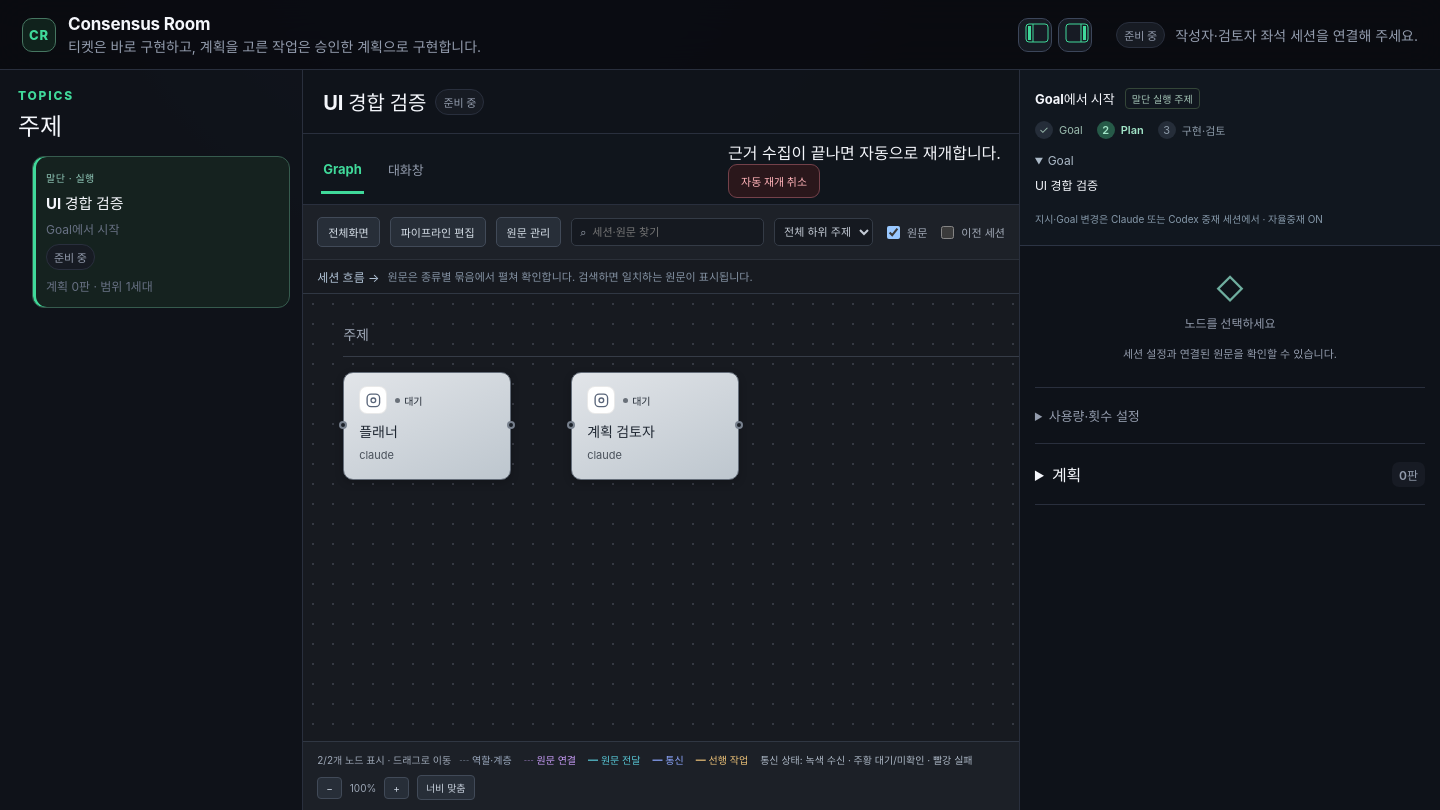
Test: shows and cancels evidence resume in DRAFT
This screenshot has width=1440, height=810.
Click the button "자동 재개 취소" at (774, 181), box [728,164,820,198]
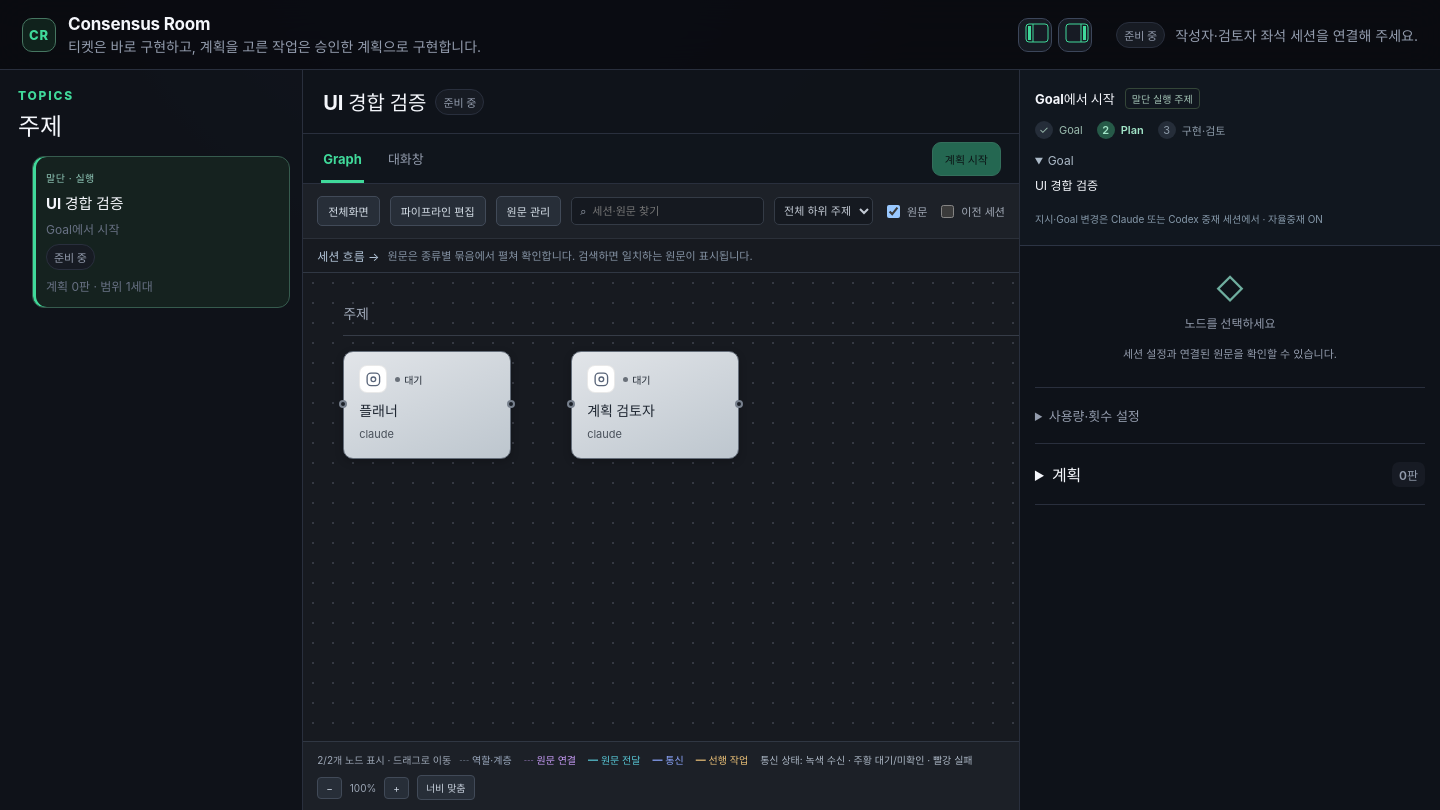
Expected: the button "자동 재개 취소" is gone
